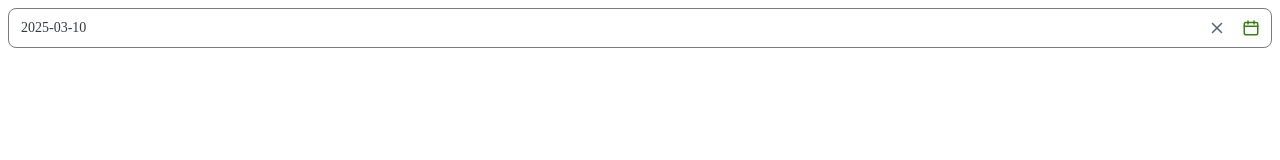
Test: DatePicker › clears the value
Click the button named "Clear" at coordinates (1217, 28), box x1=1201 y1=12 x2=1233 y2=44
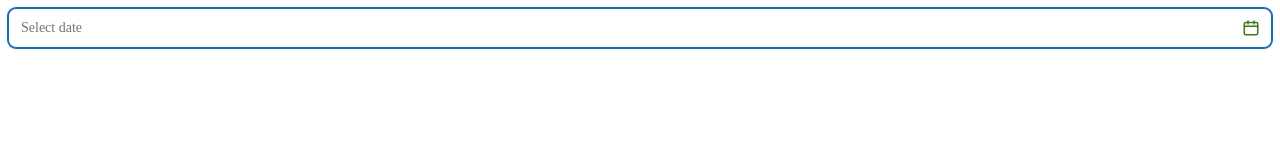
Expected: the field named "Event date" is empty, x1=9 y1=9 x2=1233 y2=47
Expected: the button "Clear" is gone
